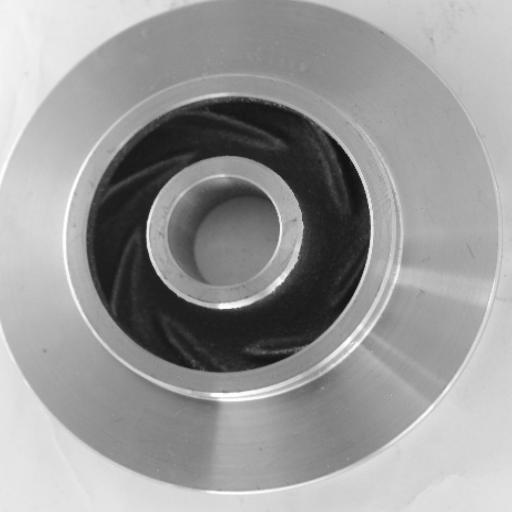polished_casting: (0, 1, 502, 498)
